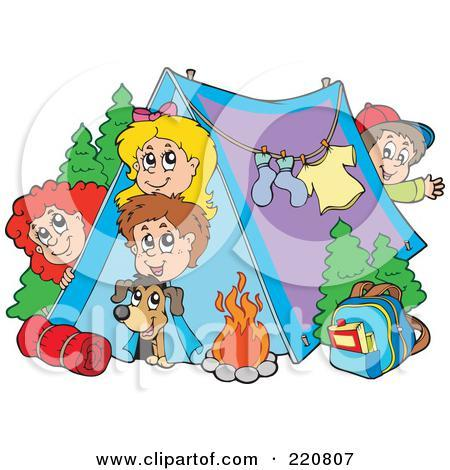dog: (111, 276, 189, 367)
person: (114, 106, 224, 219), (4, 180, 111, 286), (349, 102, 447, 208), (115, 194, 209, 279)
